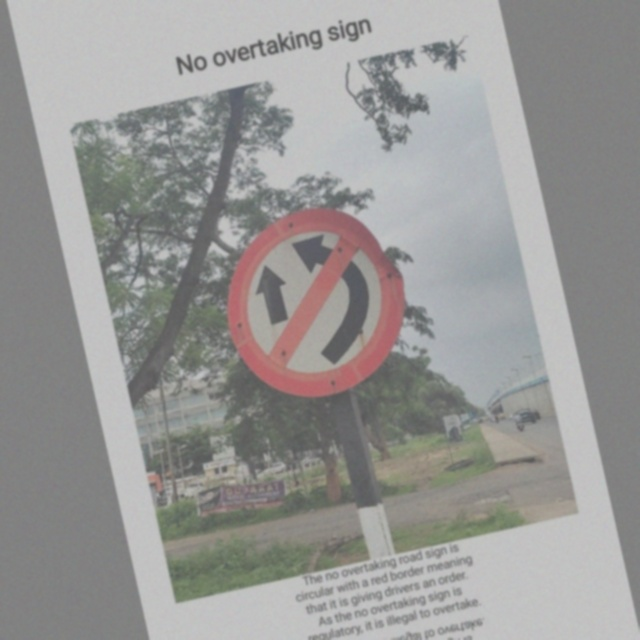Overtaking_Prohibited: (212, 190, 422, 413)
